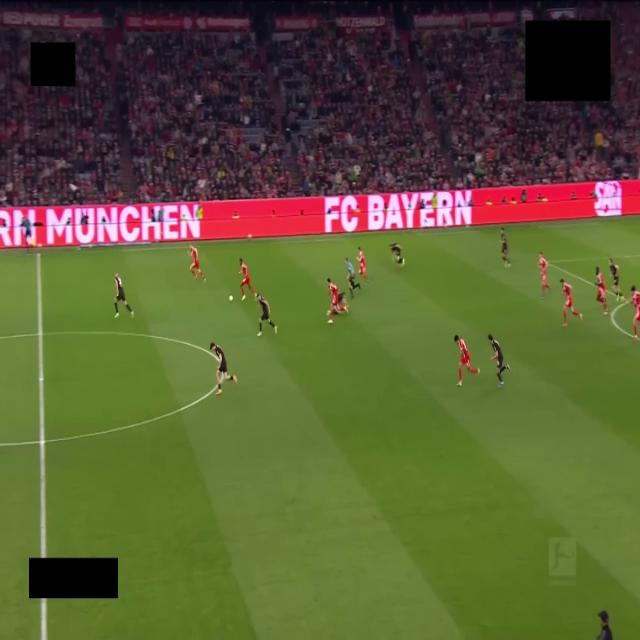ball: (229, 296, 233, 301)
player: (210, 343, 237, 395), (455, 335, 479, 386), (488, 334, 510, 387), (560, 279, 582, 326), (328, 279, 348, 323), (114, 272, 133, 318), (257, 294, 277, 336), (239, 258, 256, 301), (609, 258, 623, 301), (596, 266, 608, 314), (189, 246, 205, 281), (538, 252, 550, 297), (631, 286, 639, 340), (21, 216, 34, 249), (389, 242, 405, 266), (500, 228, 510, 266), (357, 247, 367, 280), (338, 292, 345, 305)
referee: (345, 258, 360, 297)
